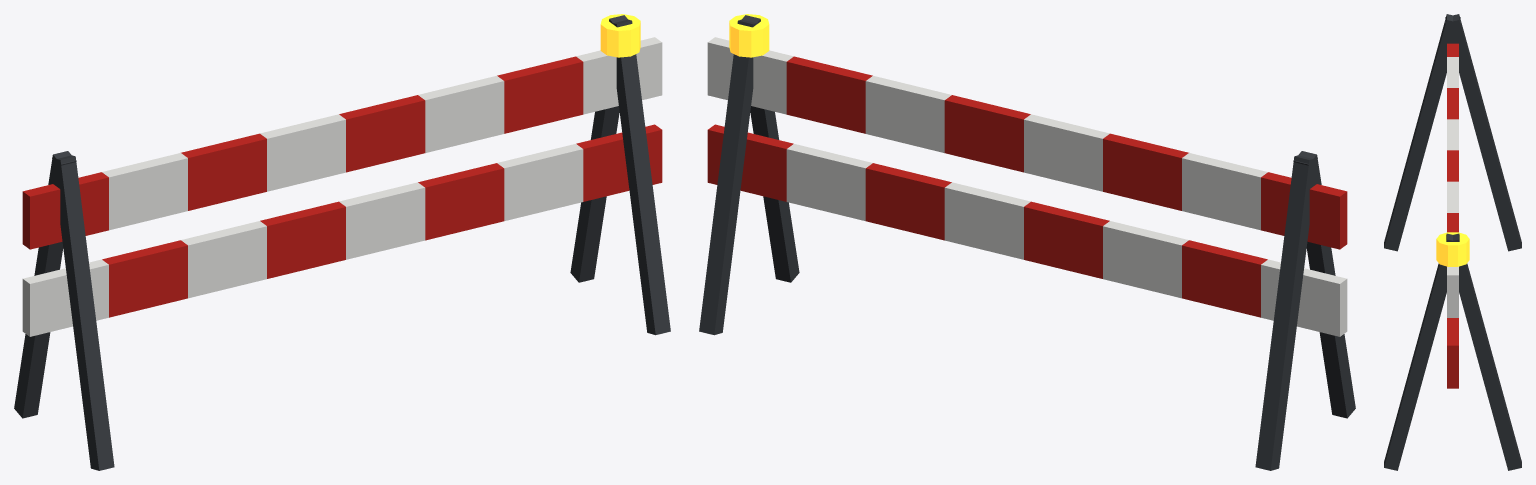
Rendered from barreira.glb.
The picture shows the model from 3 angles, left to right: view 1: azimuth 30°, elevation 25°; view 2: azimuth 150°, elevation 25°; view 3: azimuth 270°, elevation 25°; orthographic projection. The views are drawn at different scales.
Parts seen in each view (by area): view 1: barreira_corpo, luz_alerta; view 2: barreira_corpo, luz_alerta; view 3: barreira_corpo, luz_alerta.
Boxes of the visible parts, x1,y1,x2,y2 form: barreira_corpo: (14,15,670,470); luz_alerta: (600,14,640,57); barreira_corpo: (699,15,1355,470); luz_alerta: (729,14,769,57); barreira_corpo: (1384,14,1521,470); luz_alerta: (1436,232,1469,266).
Bounding box in the file's own units: 2.5 × 1.08 × 0.5843.
